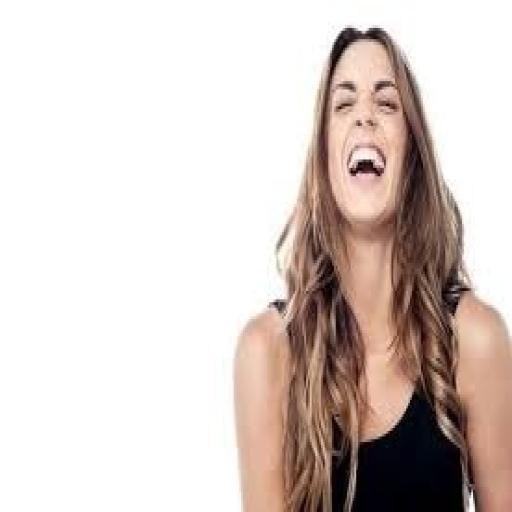laughing: (226, 20, 510, 509)
